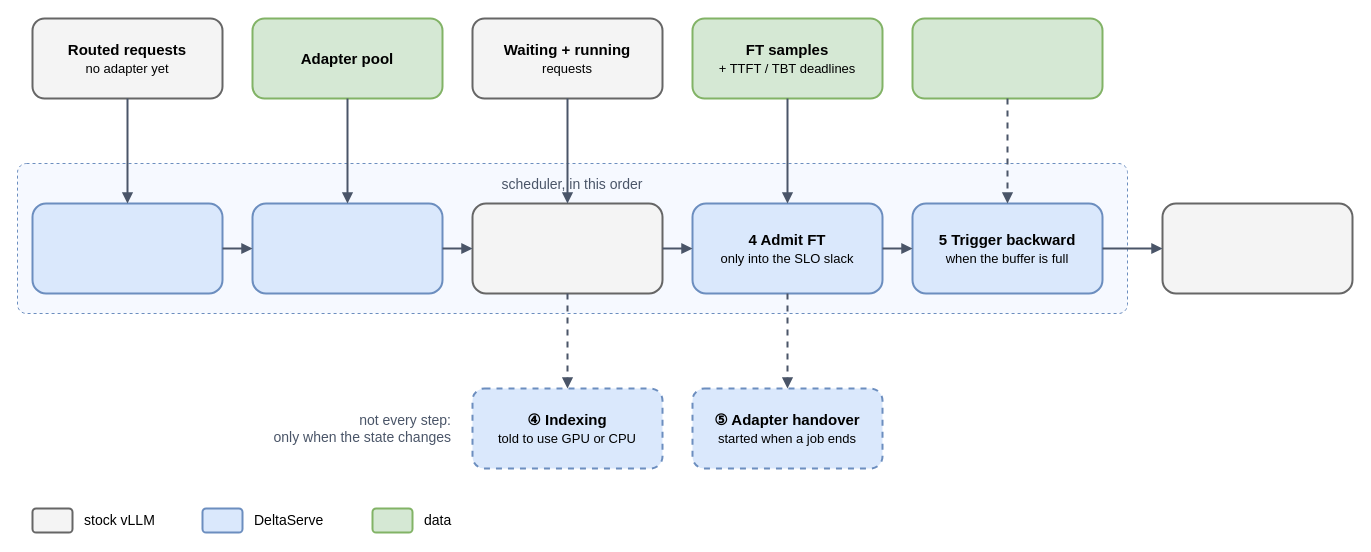
The diagram is 1371 pixels wide and 552 high, and some of its shapes have lost their labels. Here are the shapes that lost their labels. From the top down, the centre of each, then its label:
At point 1007,58: "FT activation buffer".
At point 127,248: "1 Encode run ① and wait".
At point 347,248: "2 Attach adapter hold cold ones one step".
At point 567,248: "3 Fill the batch decode, then prefill".
At point 1257,248: "② Forward engine batch sent to the workers".
